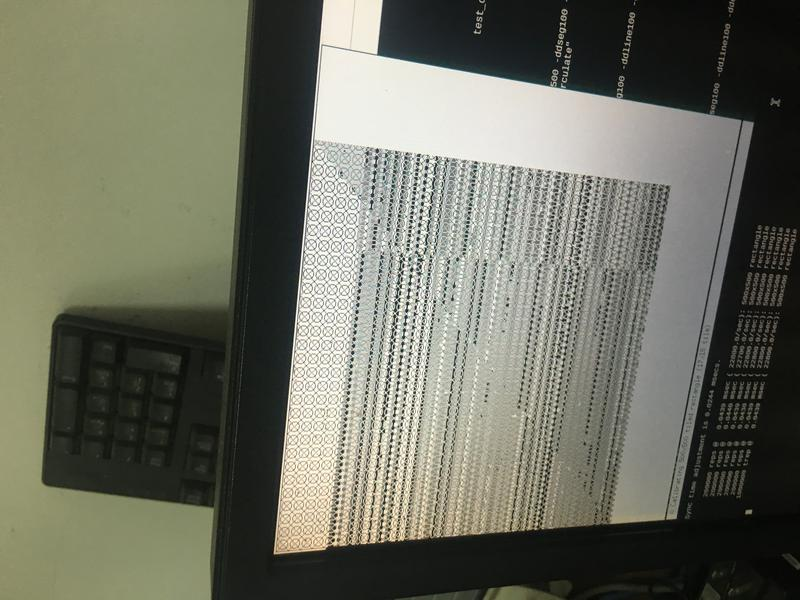xrandr_pass: (268, 36, 758, 565)
